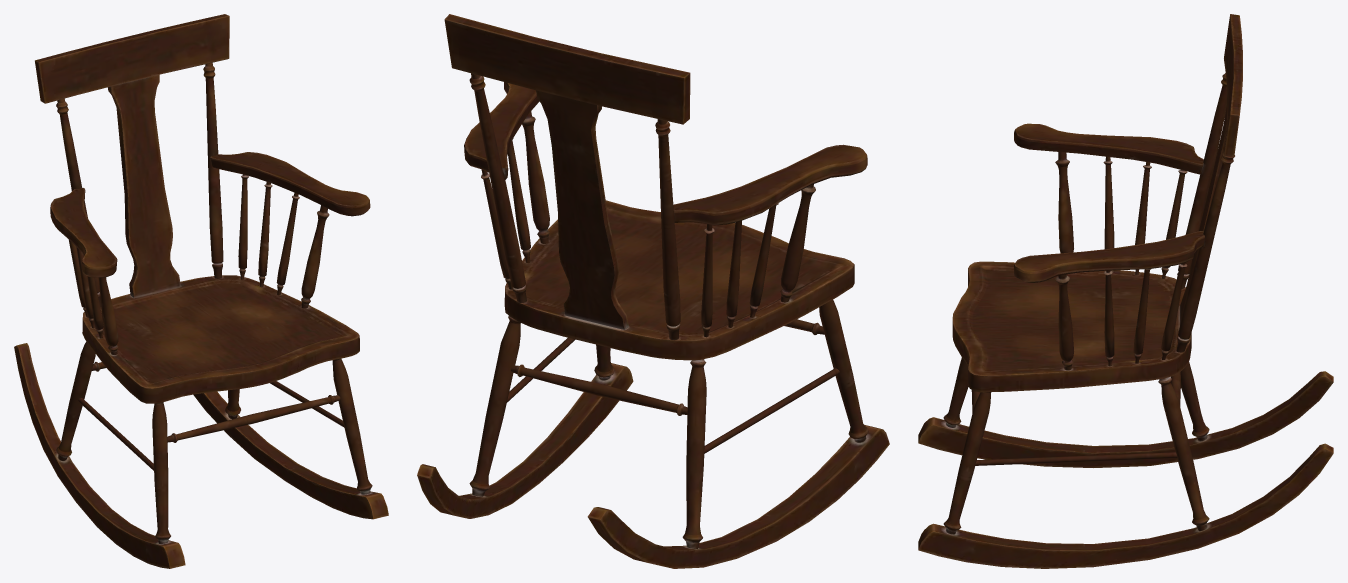
Rendered from rockingchair_01.glb.
3 renders of one model, left to right at view 1: azimuth 30°, elevation 25°; view 2: azimuth 150°, elevation 25°; view 3: azimuth 270°, elevation 25°, orthographic. The views are drawn at different scales.
Visible parts, largest first — view 1: Rockingchair_01; view 2: Rockingchair_01; view 3: Rockingchair_01.
Boxes of the visible parts, box(x1,y1,x2,y2) form: Rockingchair_01: box(14, 14, 388, 568); Rockingchair_01: box(417, 14, 889, 568); Rockingchair_01: box(918, 14, 1333, 568).
Bounding box in the file's own units: 0.7081 × 0.9949 × 0.8335.
Materials: 1 (1 with a texture image).
